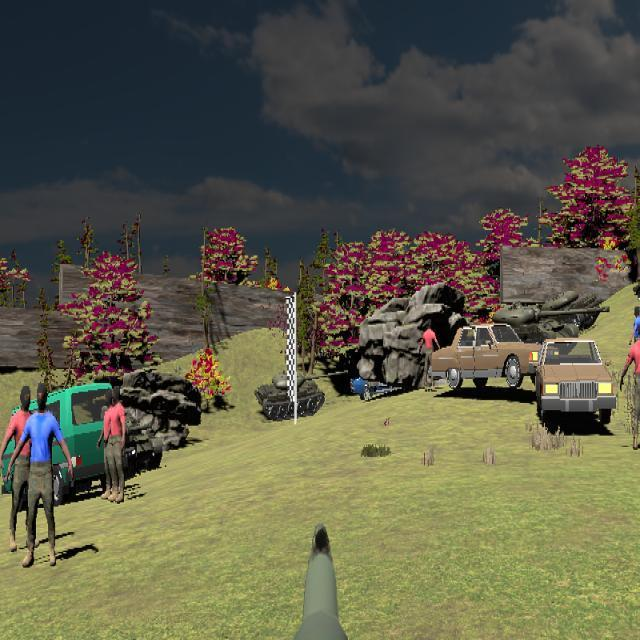Human: (9, 383, 72, 567), (97, 384, 127, 504), (620, 326, 640, 452), (418, 319, 441, 391), (632, 306, 640, 367)
Tank: (477, 301, 609, 347), (254, 369, 348, 422)
car: (29, 381, 158, 501), (427, 323, 547, 391), (535, 338, 617, 425)
